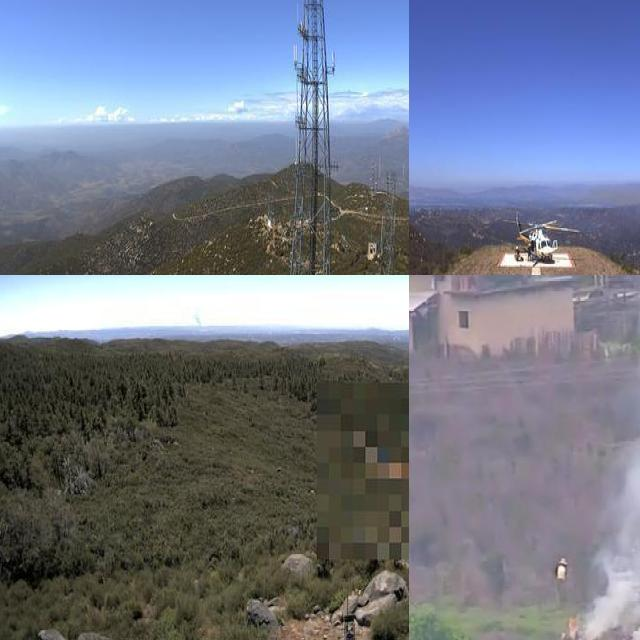smoke: (576, 275, 640, 640), (187, 305, 207, 334)
